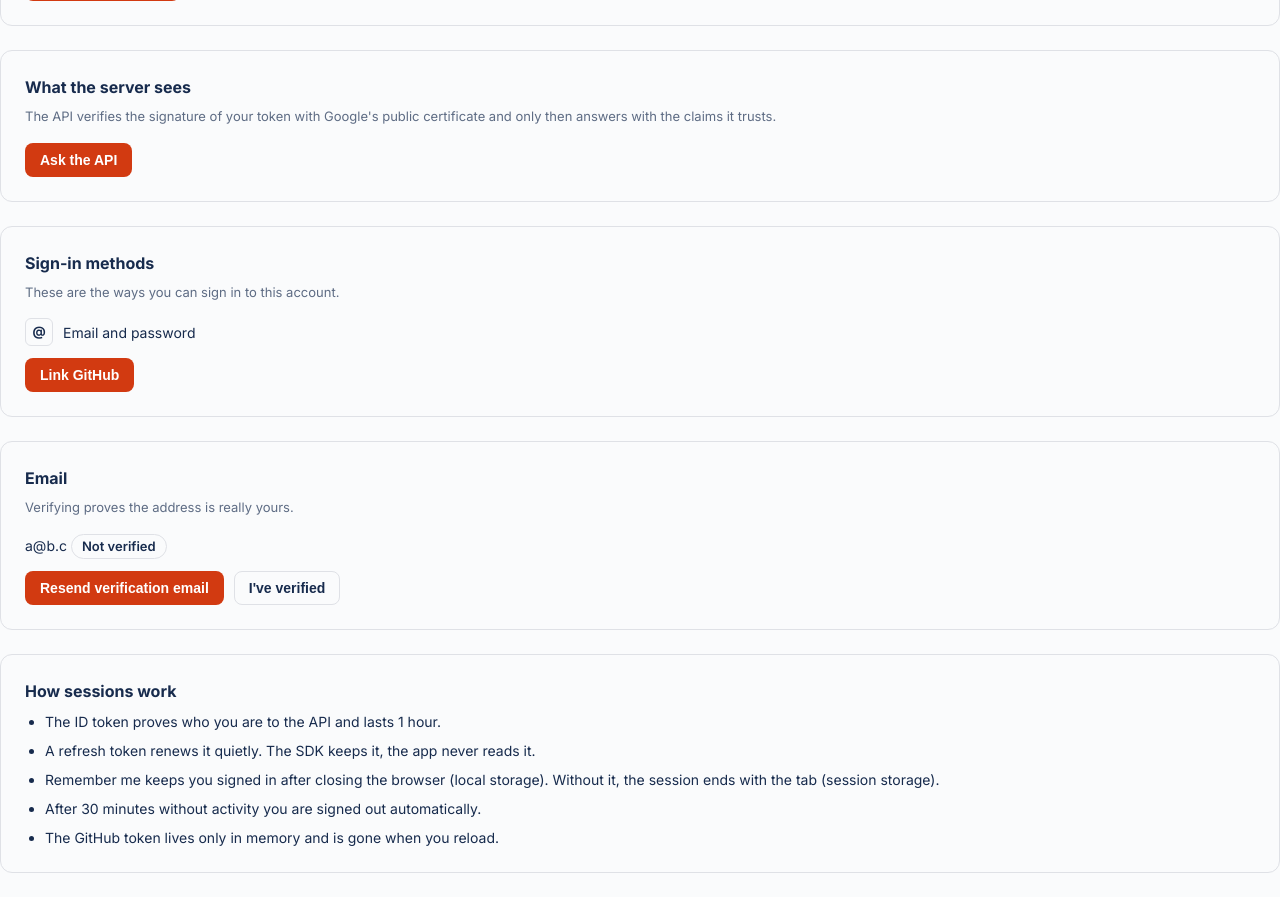
Test case: SecurityPanel: Email and sessions › shows an error toast when resending fails
This screenshot has width=1280, height=897.
(page scrolled)
What coordinates should you click on to do the following:
click the button "Resend verification email"
I would click on:
 (124, 588)
Its box is [25,571,224,605].
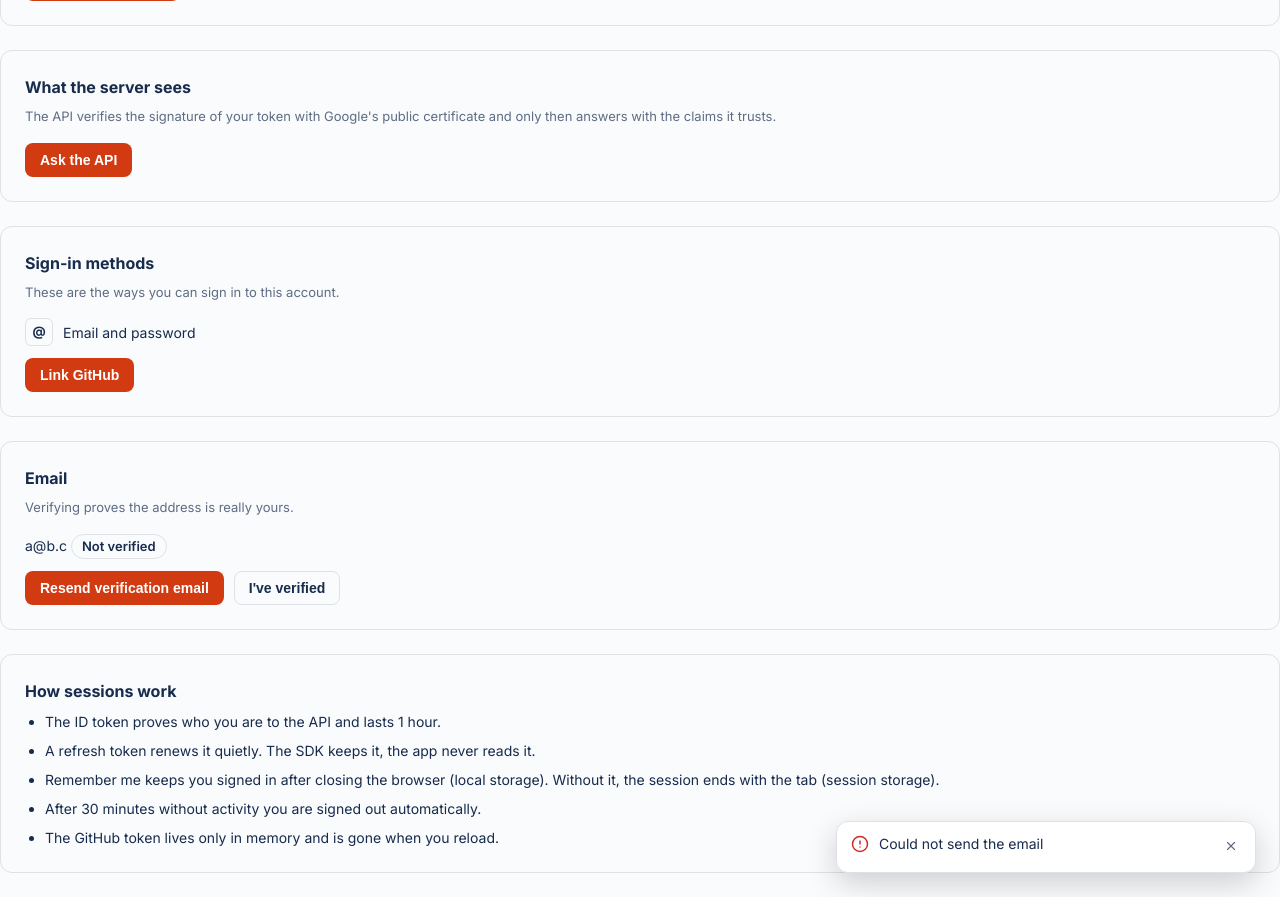
Now the text "Could not send the email" is shown, box [879,835,1043,852]
